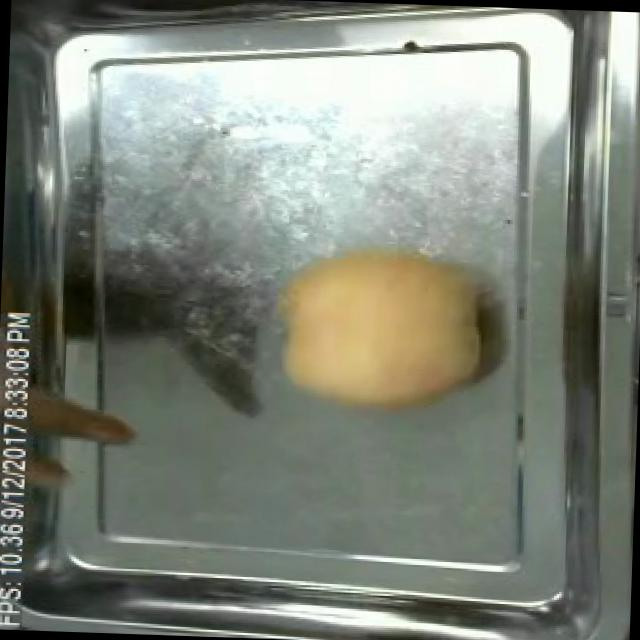Fruit: (265, 230, 492, 426)
